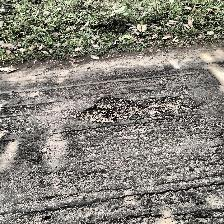pothole: (76, 94, 187, 124)
